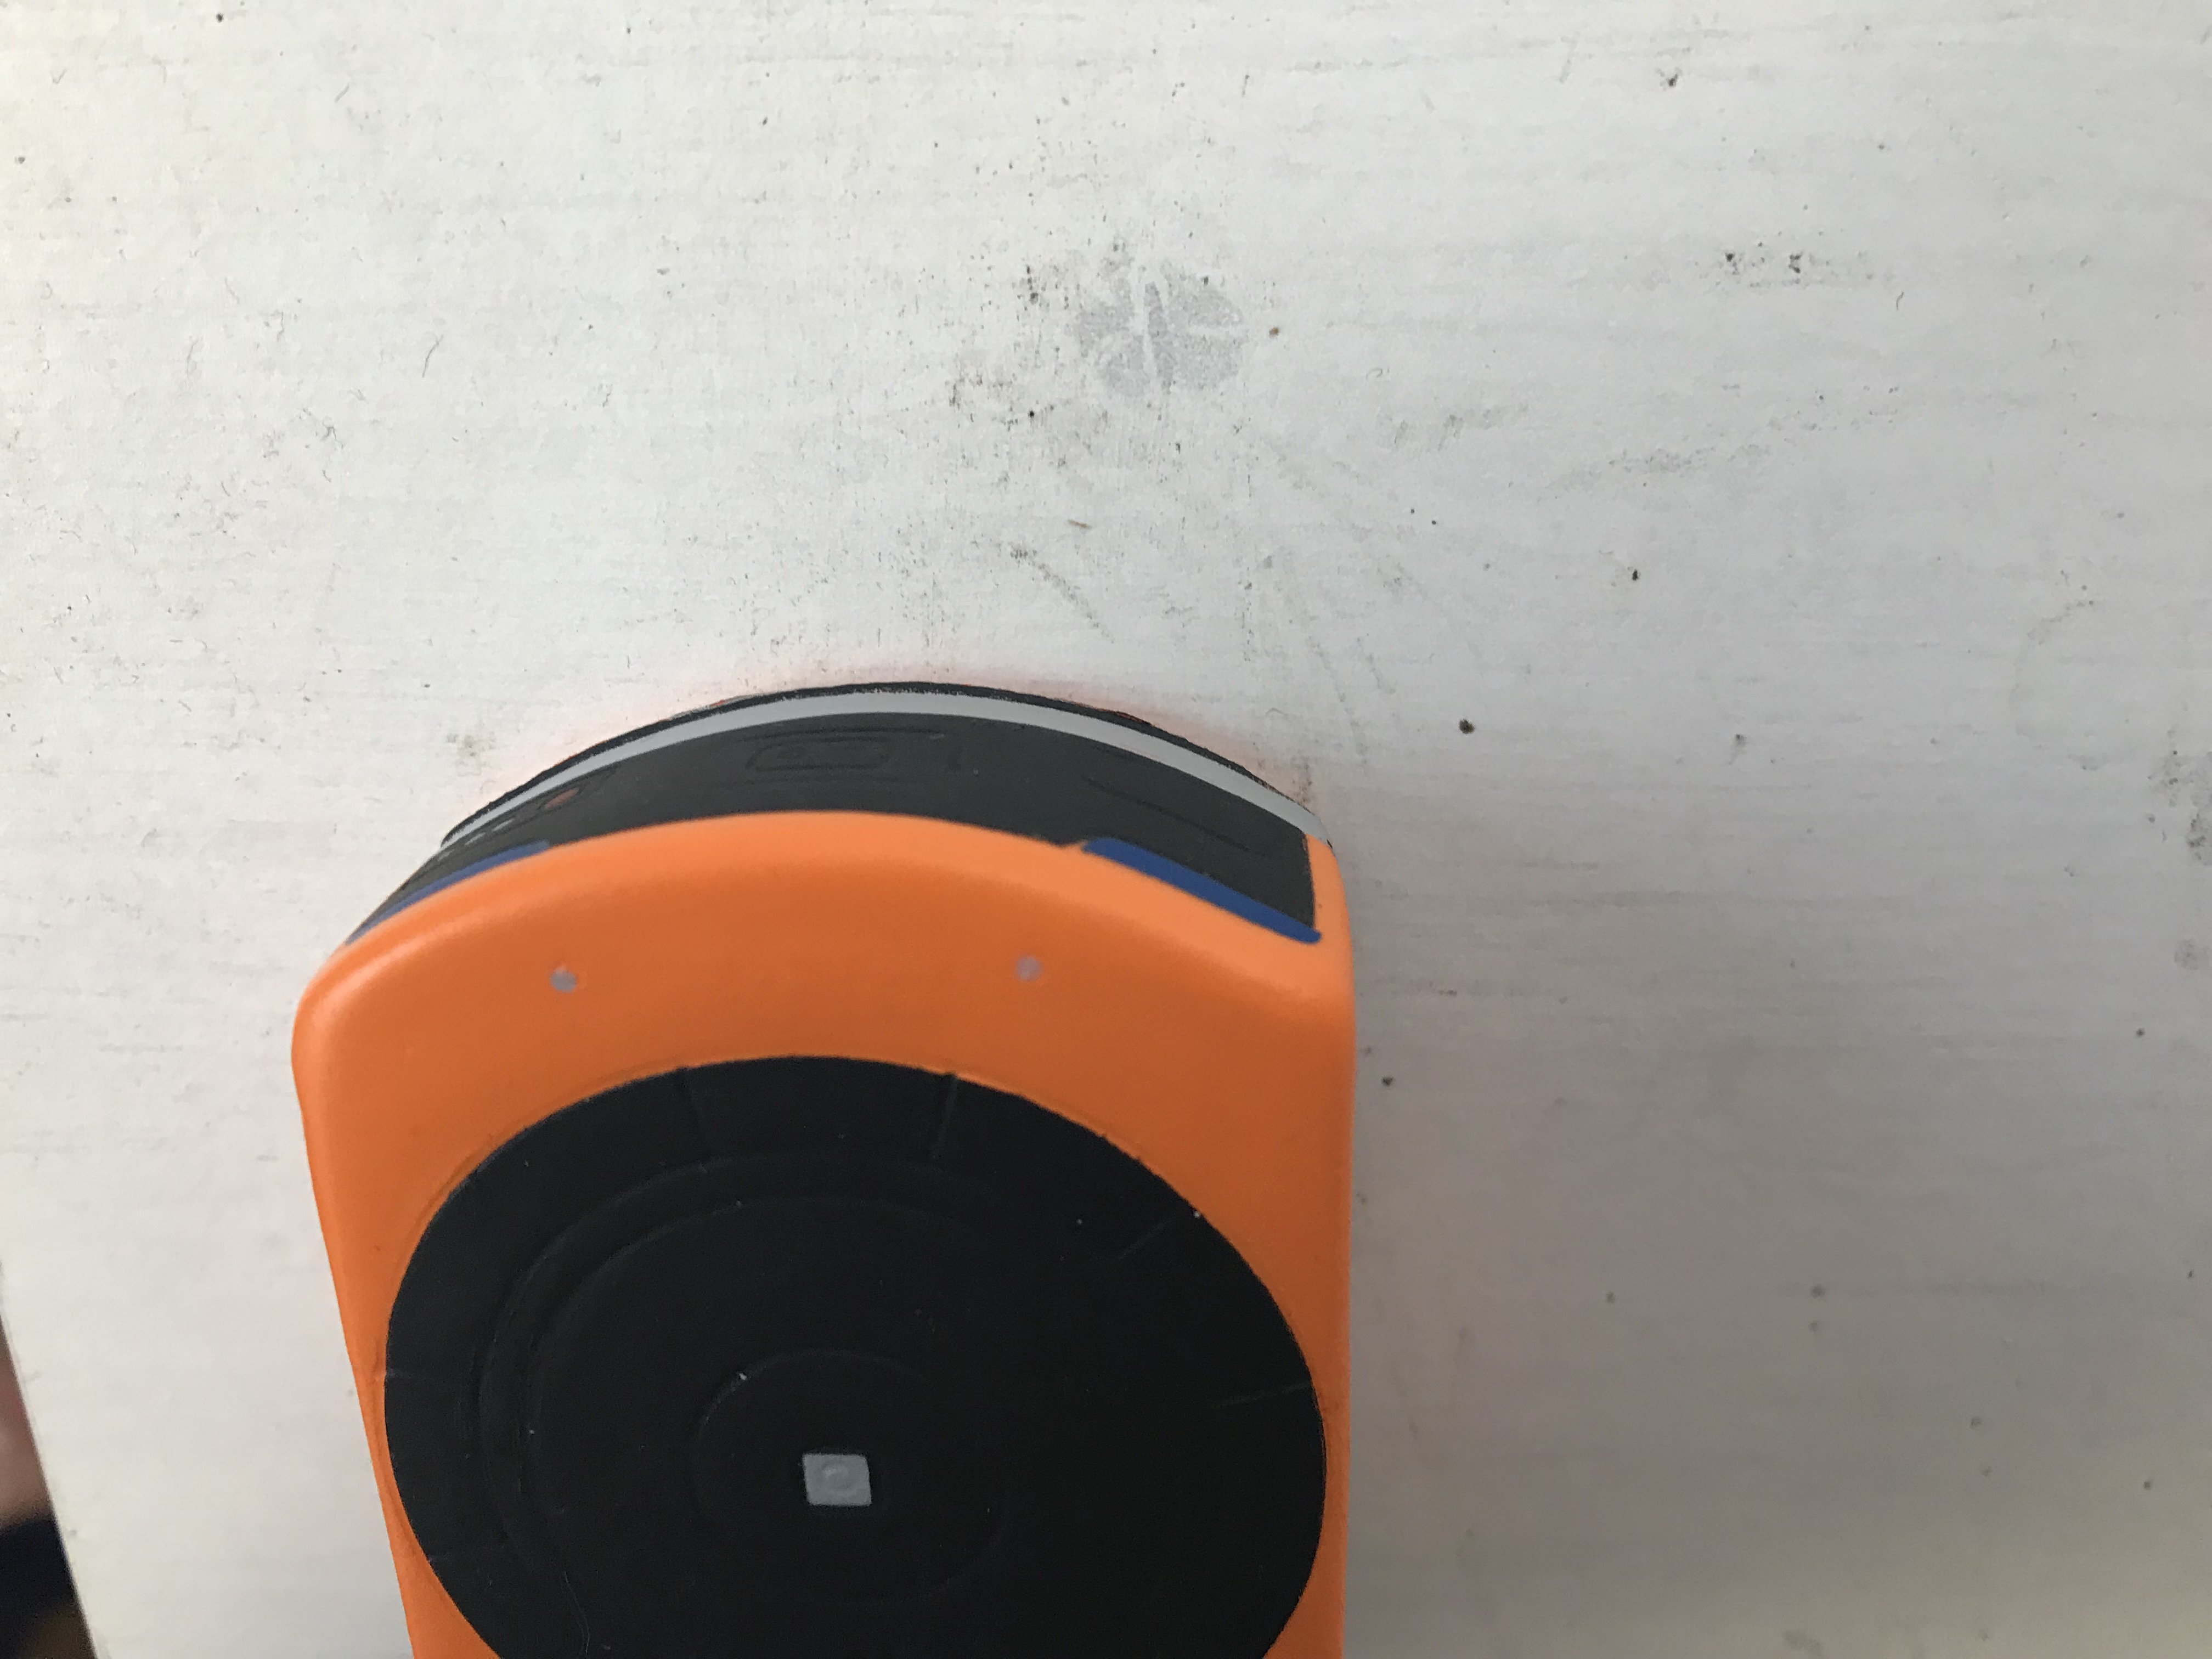amazon_bot: (219, 615, 1400, 1659)
